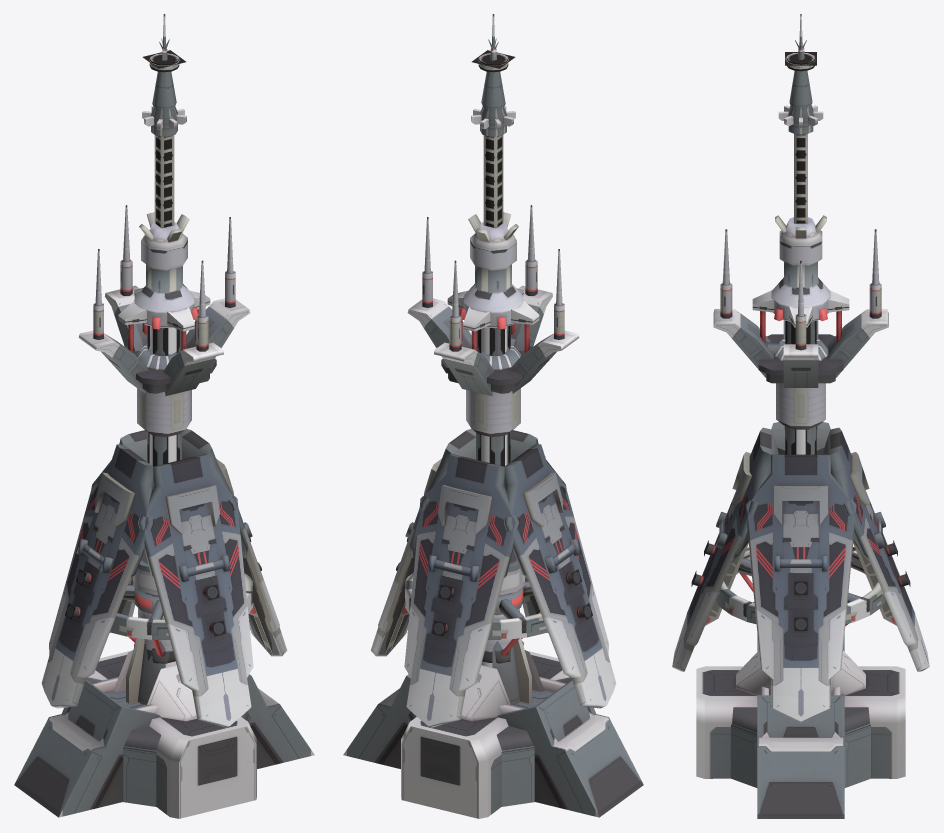
The model's file is turret-signal.glb.
3 renders of one model, left to right at view 1: azimuth 30°, elevation 25°; view 2: azimuth 150°, elevation 25°; view 3: azimuth 270°, elevation 25°, orthographic.
Parts seen in each view (by area): view 1: turret-signal, turret-signal-a-1, turret-signal-a-2, turret-signal-a-4, turret-signal-b, turret-signal-c-2, turret-signal-a-3, turret-signal-glass; view 2: turret-signal, turret-signal-a-3, turret-signal-a-2, turret-signal-a-4, turret-signal-b, turret-signal-c-3, turret-signal-a-1, turret-signal-glass; view 3: turret-signal, turret-signal-a-4, turret-signal-a-1, turret-signal-a-3, turret-signal-c-1, turret-signal-c-4, turret-signal-b, turret-signal-a-2.
Boxes of the visible parts, <box> form: turret-signal: <box>14,14,314,818</box>; turret-signal-a-1: <box>138,454,253,727</box>; turret-signal-a-2: <box>41,444,154,708</box>; turret-signal-a-4: <box>182,428,287,656</box>; turret-signal-b: <box>110,573,252,663</box>; turret-signal-c-2: <box>149,719,187,818</box>; turret-signal-a-3: <box>90,430,146,632</box>; turret-signal-glass: <box>150,326,176,667</box>; turret-signal: <box>343,14,643,818</box>; turret-signal-a-3: <box>404,454,519,727</box>; turret-signal-a-2: <box>503,444,616,708</box>; turret-signal-a-4: <box>370,428,475,656</box>; turret-signal-b: <box>405,573,547,663</box>; turret-signal-c-3: <box>470,719,508,818</box>; turret-signal-a-1: <box>511,430,567,632</box>; turret-signal-glass: <box>481,326,507,667</box>; turret-signal: <box>696,14,905,818</box>; turret-signal-a-4: <box>745,454,856,722</box>; turret-signal-a-1: <box>672,427,778,671</box>; turret-signal-a-3: <box>823,427,929,671</box>; turret-signal-c-1: <box>696,697,757,778</box>; turret-signal-c-4: <box>844,697,905,778</box>; turret-signal-b: <box>716,547,886,625</box>; turret-signal-a-2: <box>771,422,830,454</box>.
Size of the model in its own units: 5.65 by 15.92 by 5.
Materials: 4 (4 with a texture image).
